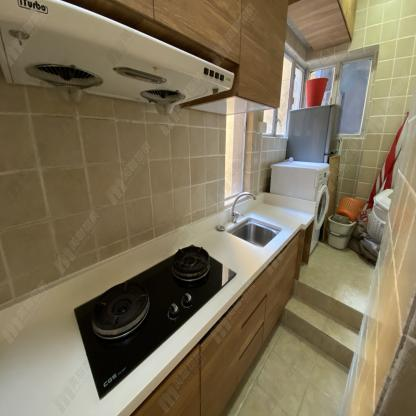Cupboard: (200, 266, 267, 416)
Exhaust Hood: (0, 0, 235, 118)
Faucet: (229, 183, 257, 220)
Fridge: (285, 104, 343, 163)
Sink: (217, 210, 299, 261)
Stove: (69, 237, 251, 415)
Washing Machine: (271, 160, 329, 257)
